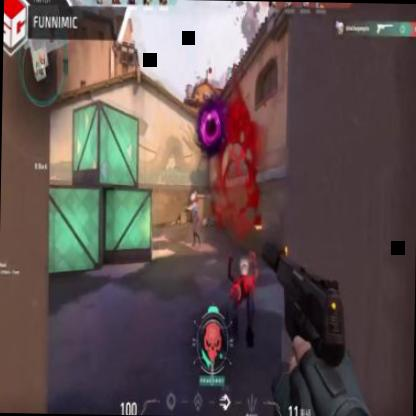enemy: (188, 191, 202, 247)
enemy_head: (190, 192, 196, 202)
